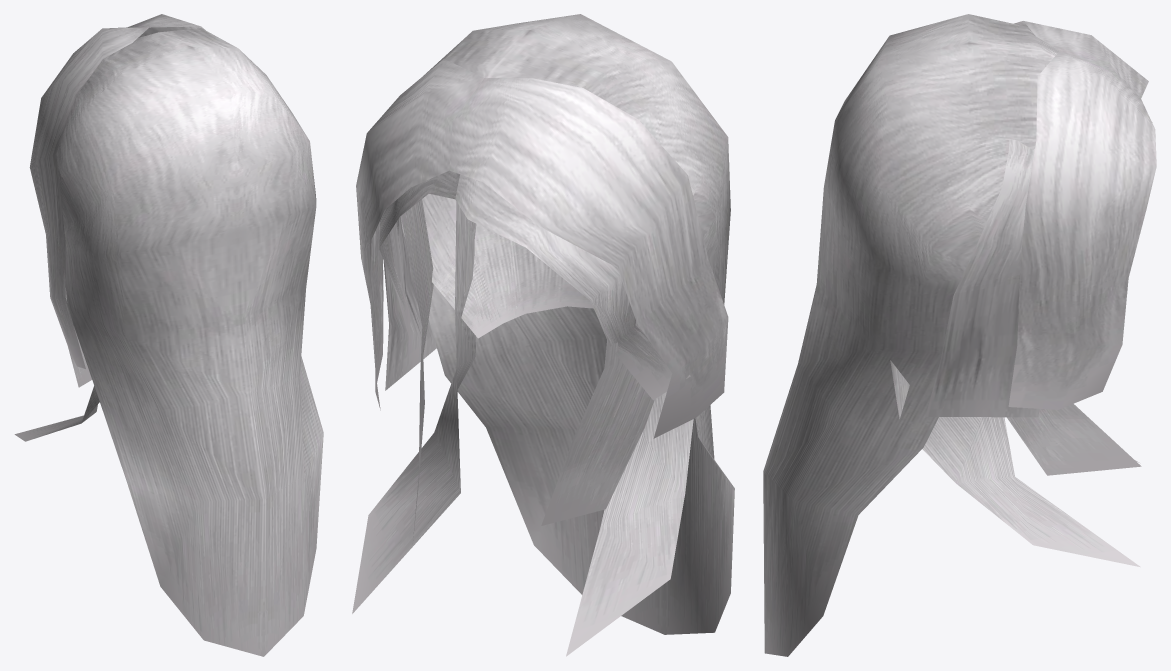
Rendered from Mage female hair 24.glb.
The picture shows the model from 3 angles, left to right: view 1: azimuth 30°, elevation 25°; view 2: azimuth 150°, elevation 25°; view 3: azimuth 270°, elevation 25°; orthographic projection. The views are drawn at different scales.
Parts seen in each view (by area): view 1: 法师女头发24_0; view 2: 法师女头发24_0; view 3: 法师女头发24_0.
Boxes of the visible parts, left/top/right/bottom form: 法师女头发24_0: left=14, top=14, right=323, bottom=656; 法师女头发24_0: left=352, top=14, right=734, bottom=656; 法师女头发24_0: left=763, top=14, right=1156, bottom=656.
Bounding box in the file's own units: 0.181 × 0.3775 × 0.2171.
1 material, 1 textured.
